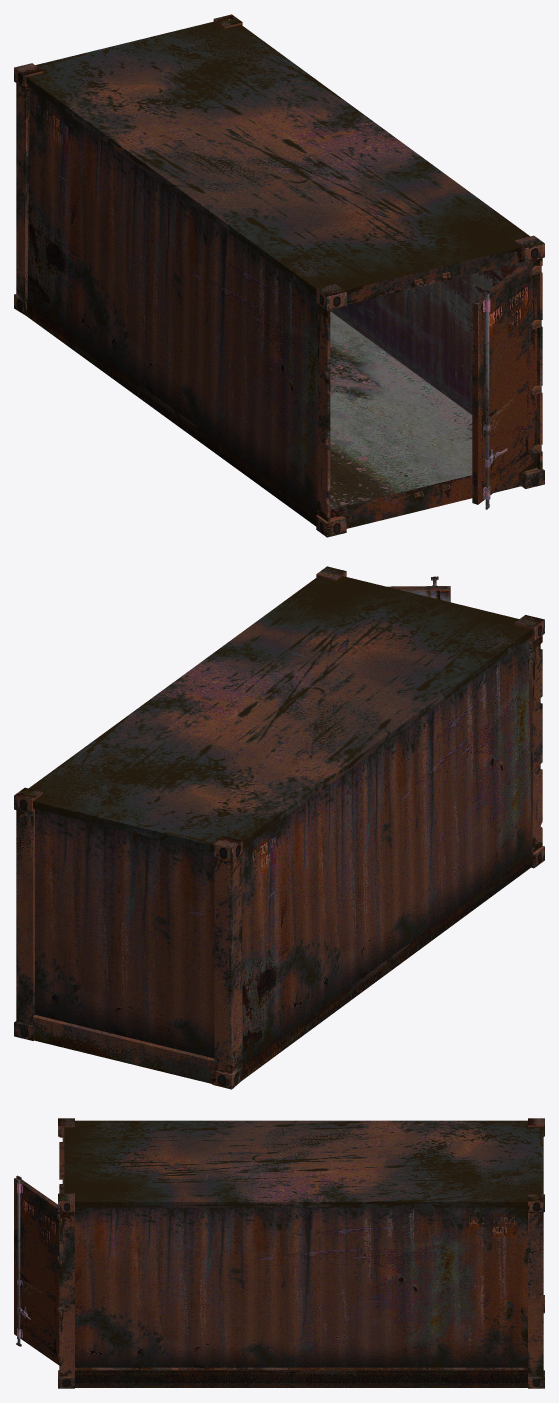
Rendered from container.FBX.
3 renders of one model, top to bottom at view 1: azimuth 30°, elevation 25°; view 2: azimuth 150°, elevation 25°; view 3: azimuth 270°, elevation 25°, orthographic. The views are drawn at different scales.
Visible parts, largest first — view 1: container, door; view 2: container, door; view 3: container, door.
Boxes of the visible parts, box(x1,y1,x2,y2) form: container: box(14, 14, 544, 537); door: box(472, 260, 541, 509); container: box(14, 566, 544, 1089); door: box(387, 576, 450, 602); container: box(58, 1118, 544, 1388); door: box(14, 1175, 62, 1365).
Size of the model in its own units: 2.46 by 2.6 by 6.67.
